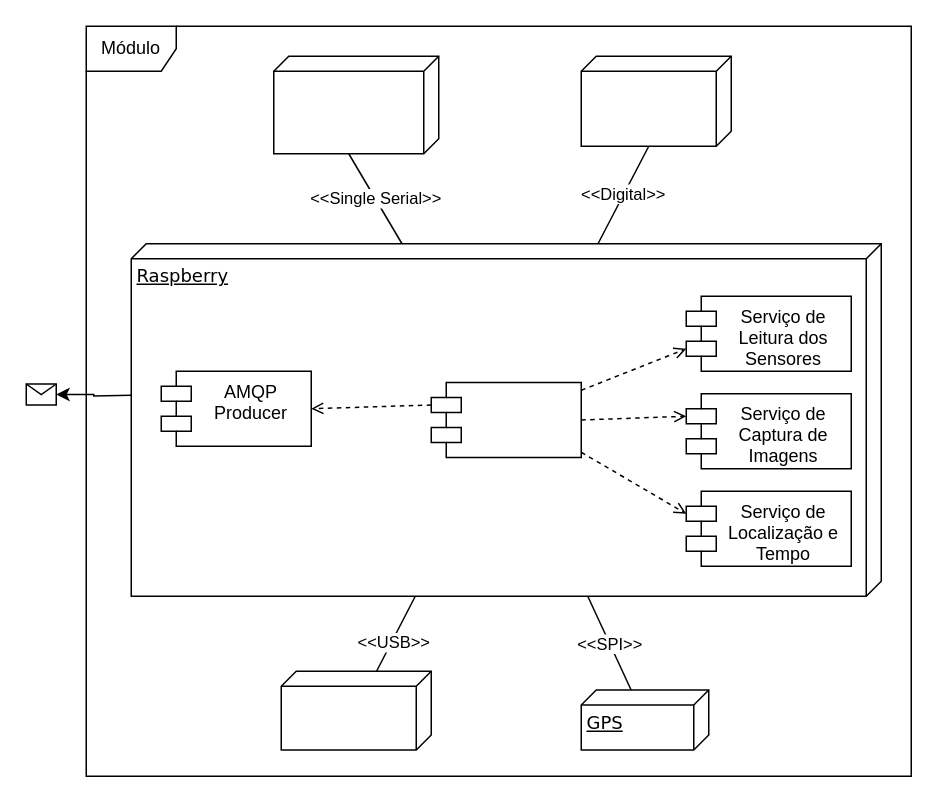
Image size: 938x803. Some labels were removed from this diagram. Each missing label, with the centre of its shape:
"Dispositivo Fotográfico" goes at (x=355, y=710).
"Sensor de Movimento" goes at (x=655, y=100).
"Sensor de Umidade e Temperatura" goes at (x=355, y=104).
"Sistema Principal" goes at (x=505, y=419).
